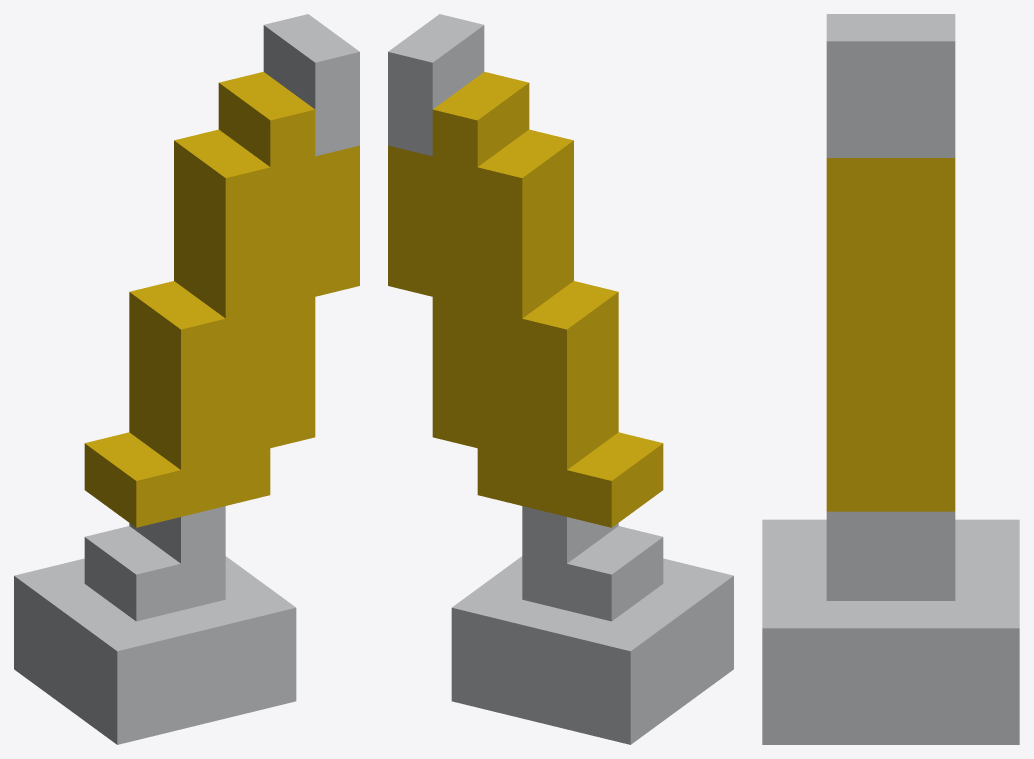
The model's file is dirt_bike_shock.glb.
The picture shows the model from 3 angles, left to right: view 1: azimuth 30°, elevation 25°; view 2: azimuth 150°, elevation 25°; view 3: azimuth 270°, elevation 25°; orthographic projection. The views are drawn at different scales.
Visible parts, largest first — view 1: body:compound; view 2: body:compound; view 3: body:compound.
Part boxes in pixels (x1,y1,x2,y2): body:compound: [14, 14, 359, 744]; body:compound: [388, 14, 733, 744]; body:compound: [762, 14, 1019, 744].
Size of the model in its own units: 0.1875 by 0.4062 by 0.125.
